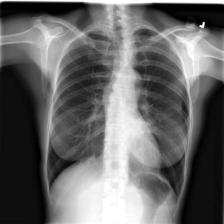normal: (44, 23, 192, 202)
